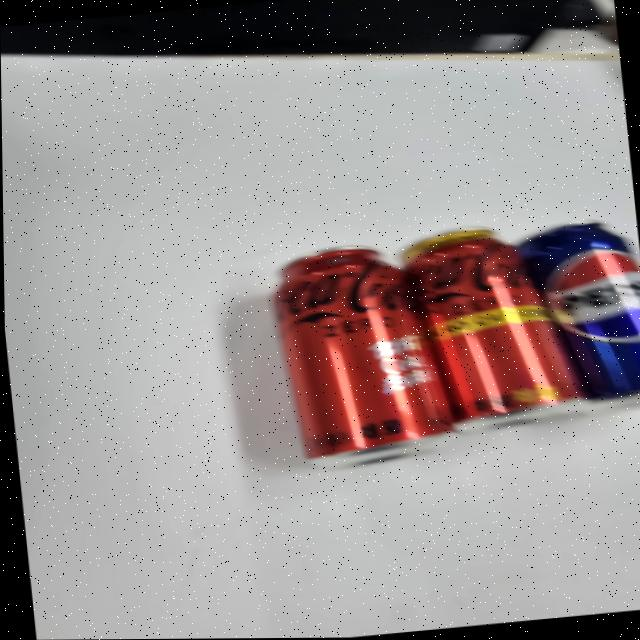can_coke_decaf: (398, 227, 582, 433)
can_coke_zero: (270, 244, 456, 469)
can_pepsi: (512, 218, 640, 414)
